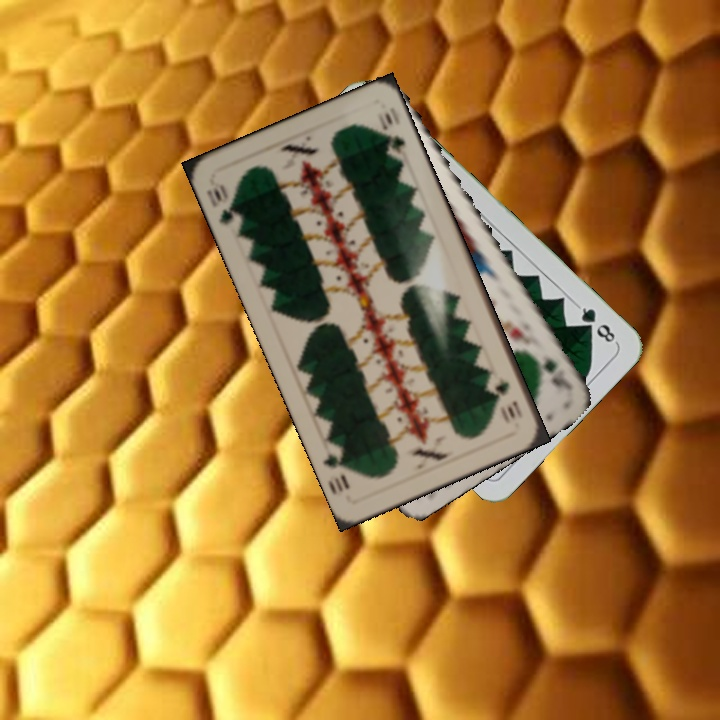G10: (202, 177, 245, 230), (491, 373, 526, 422)
G8: (573, 301, 620, 346)
GK: (539, 351, 575, 393)
